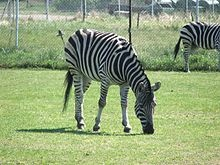zebra: (61, 27, 162, 136), (173, 19, 219, 73)
